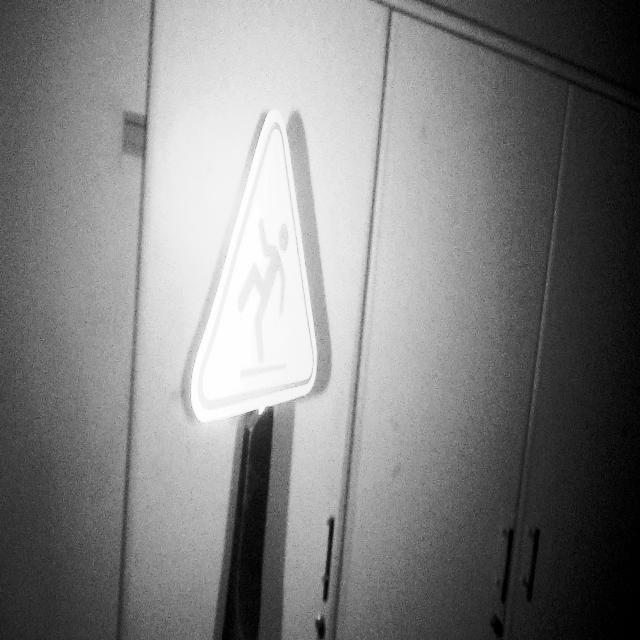Sign: (190, 108, 319, 426)
